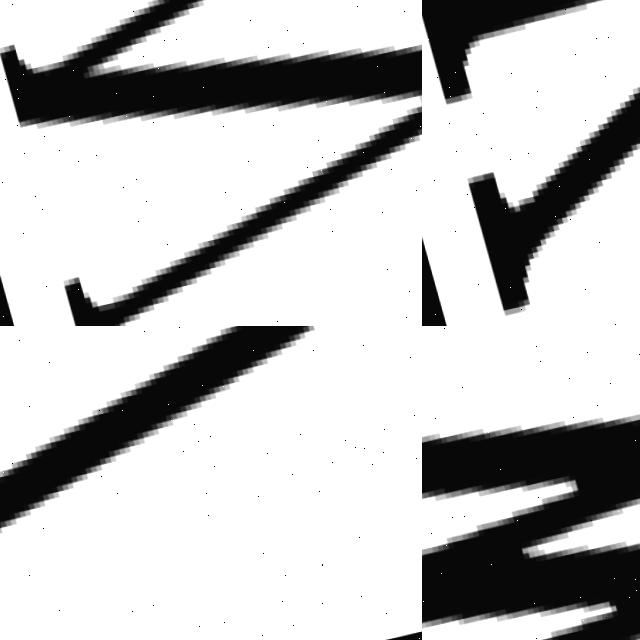J: (0, 326, 422, 640)
N: (0, 0, 422, 326)
V: (422, 0, 640, 323)
W: (422, 326, 640, 640)
